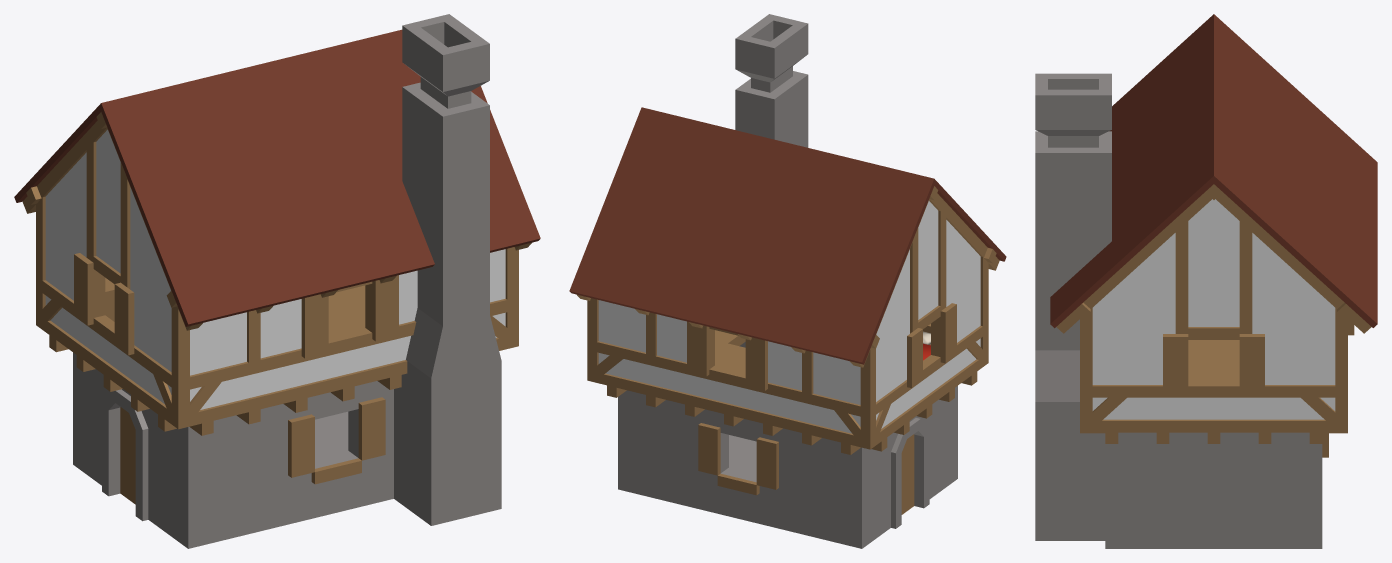
Rendered from test_house.fbx.
The picture shows the model from 3 angles, left to right: view 1: azimuth 30°, elevation 25°; view 2: azimuth 150°, elevation 25°; view 3: azimuth 270°, elevation 25°; orthographic projection. The views are drawn at different scales.
Parts seen in each view (by area): view 1: L3, L1, L0, L2; view 2: L3, L1, L0, L2; view 3: L1, L3, L0, L2.
Part boxes in pixels (x1,y1,x2,y2): L3: [14, 29, 540, 326]; L1: [36, 129, 518, 435]; L0: [73, 352, 501, 548]; L2: [22, 14, 531, 330]; L3: [569, 107, 1006, 364]; L1: [587, 201, 988, 454]; L0: [618, 342, 957, 548]; L2: [577, 14, 999, 367]; L1: [1035, 199, 1354, 443]; L3: [1050, 14, 1377, 328]; L0: [1035, 413, 1328, 548]; L2: [1035, 73, 1371, 333].
Bounding box in the file's own units: 750 × 951 × 671.
